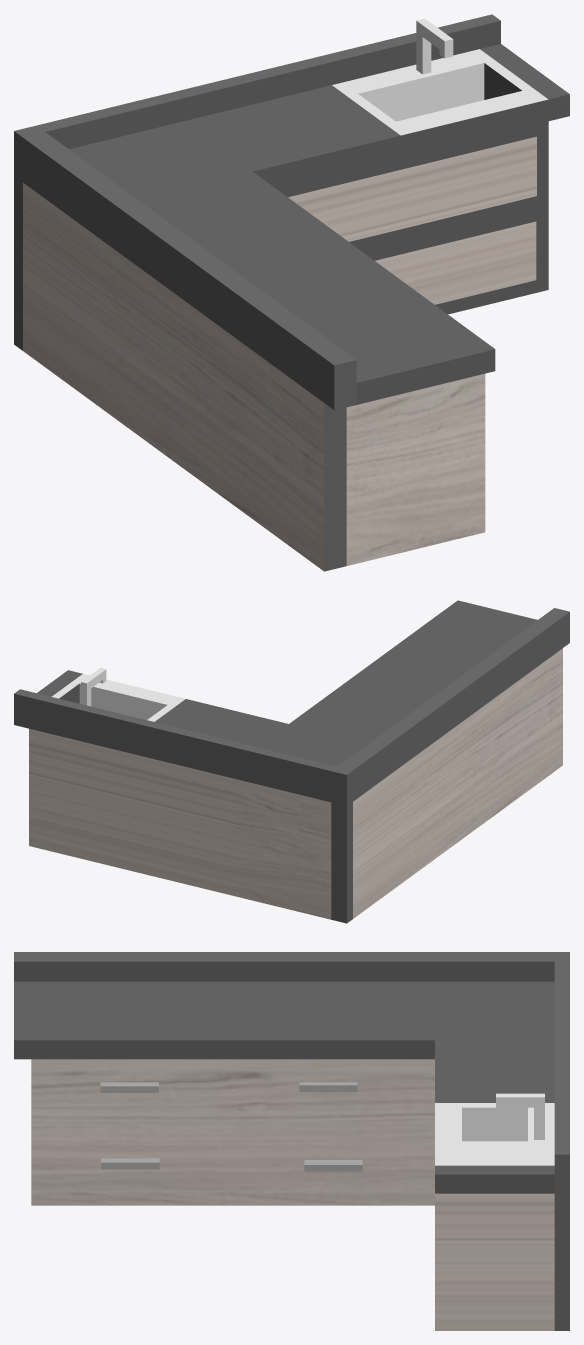
The model's file is Sciencecornertop.fbx.
3 renders of one model, top to bottom at view 1: azimuth 30°, elevation 25°; view 2: azimuth 150°, elevation 25°; view 3: azimuth 270°, elevation 25°, orthographic. The views are drawn at different scales.
Parts seen in each view (by area): view 1: Cube; view 2: Cube; view 3: Cube.
Boxes of the visible parts, left/top/right/bottom form: Cube: left=14, top=14, right=569, bottom=571; Cube: left=14, top=600, right=569, bottom=923; Cube: left=14, top=952, right=569, bottom=1330.
Bounding box in the file's own units: 1187 × 569 × 1378.
Materials: 5 (1 with a texture image).
